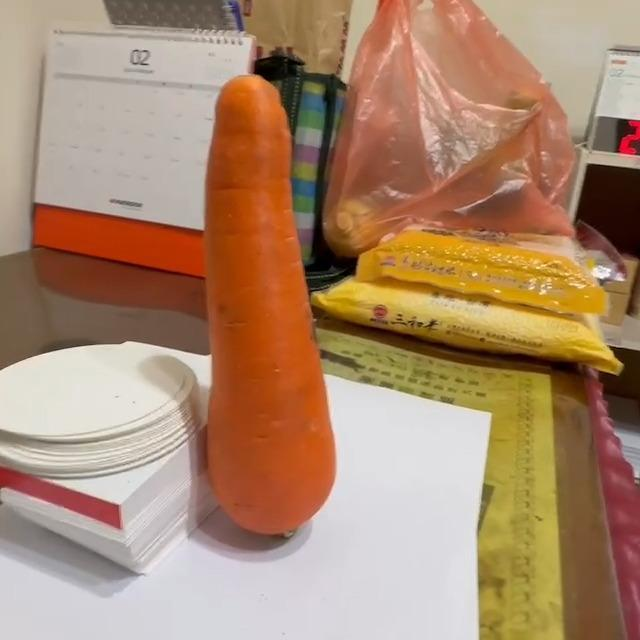carrot: (206, 76, 335, 534)
